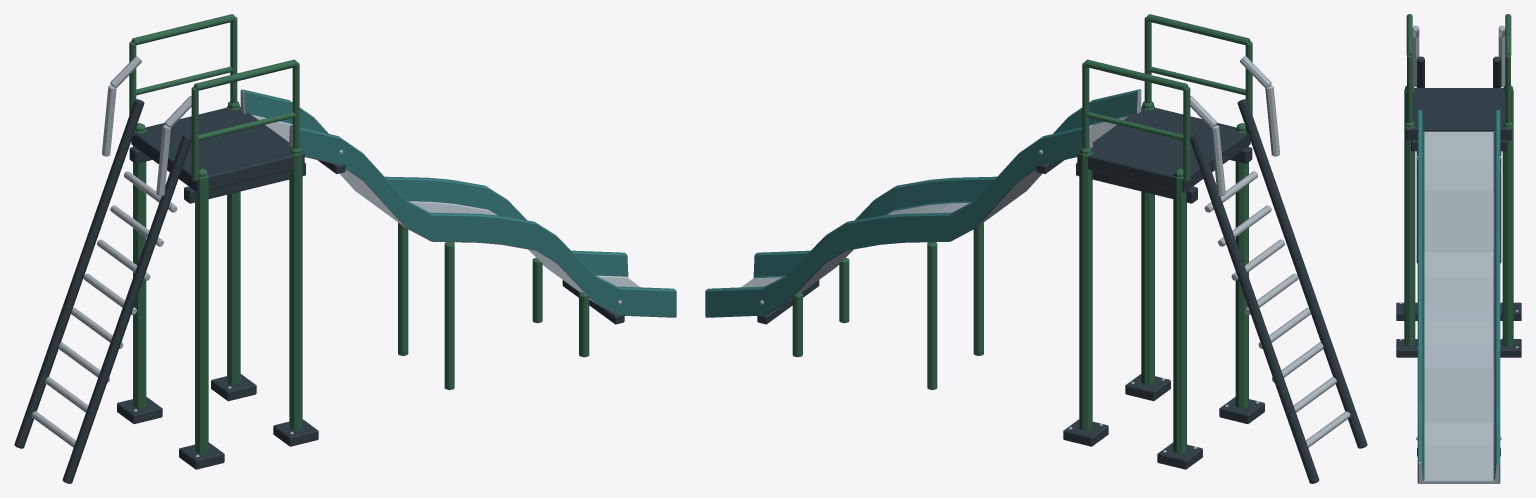
File: b09_wave_slide.glb
3 views of the same model, side by side, from view 1: azimuth 30°, elevation 25°; view 2: azimuth 150°, elevation 25°; view 3: azimuth 270°, elevation 25° (orthographic). The views are drawn at different scales.
Visible parts, largest first — view 1: b09_wave_slide; view 2: b09_wave_slide; view 3: b09_wave_slide.
Part boxes in pixels (bbox=[...]): b09_wave_slide: bbox=[14, 14, 676, 483]; b09_wave_slide: bbox=[705, 14, 1367, 483]; b09_wave_slide: bbox=[1396, 14, 1521, 483].
Size of the model in its own units: 4.55 by 2.68 by 1.02.
